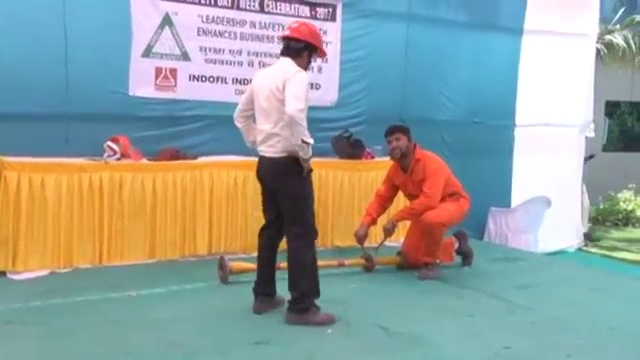helmet: (280, 20, 328, 60), (583, 121, 596, 140)
helmet_off: (384, 123, 414, 164)
helmet_on: (280, 19, 328, 72)
person: (233, 21, 336, 326), (354, 123, 472, 280)
